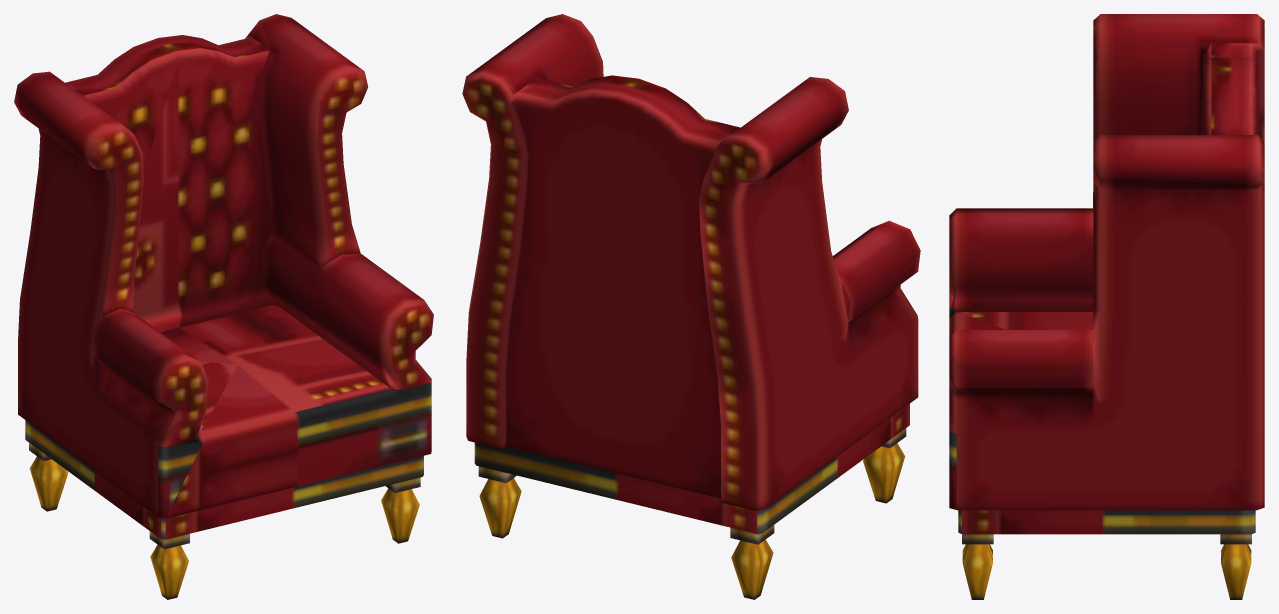
Rendered from int_gor_chairS.dae.
The picture shows the model from 3 angles, left to right: view 1: azimuth 30°, elevation 25°; view 2: azimuth 150°, elevation 25°; view 3: azimuth 270°, elevation 25°; orthographic projection. The views are drawn at different scales.
Parts seen in each view (by area): view 1: int_gor_chairS; view 2: int_gor_chairS; view 3: int_gor_chairS.
Part boxes in pixels (left/top/right/bottom): int_gor_chairS: left=14, top=14, right=433, bottom=599; int_gor_chairS: left=462, top=14, right=920, bottom=599; int_gor_chairS: left=949, top=14, right=1264, bottom=599.
Size of the model in its own units: 28.78 by 42.82 by 26.12.
Materials: 1 (1 with a texture image).
